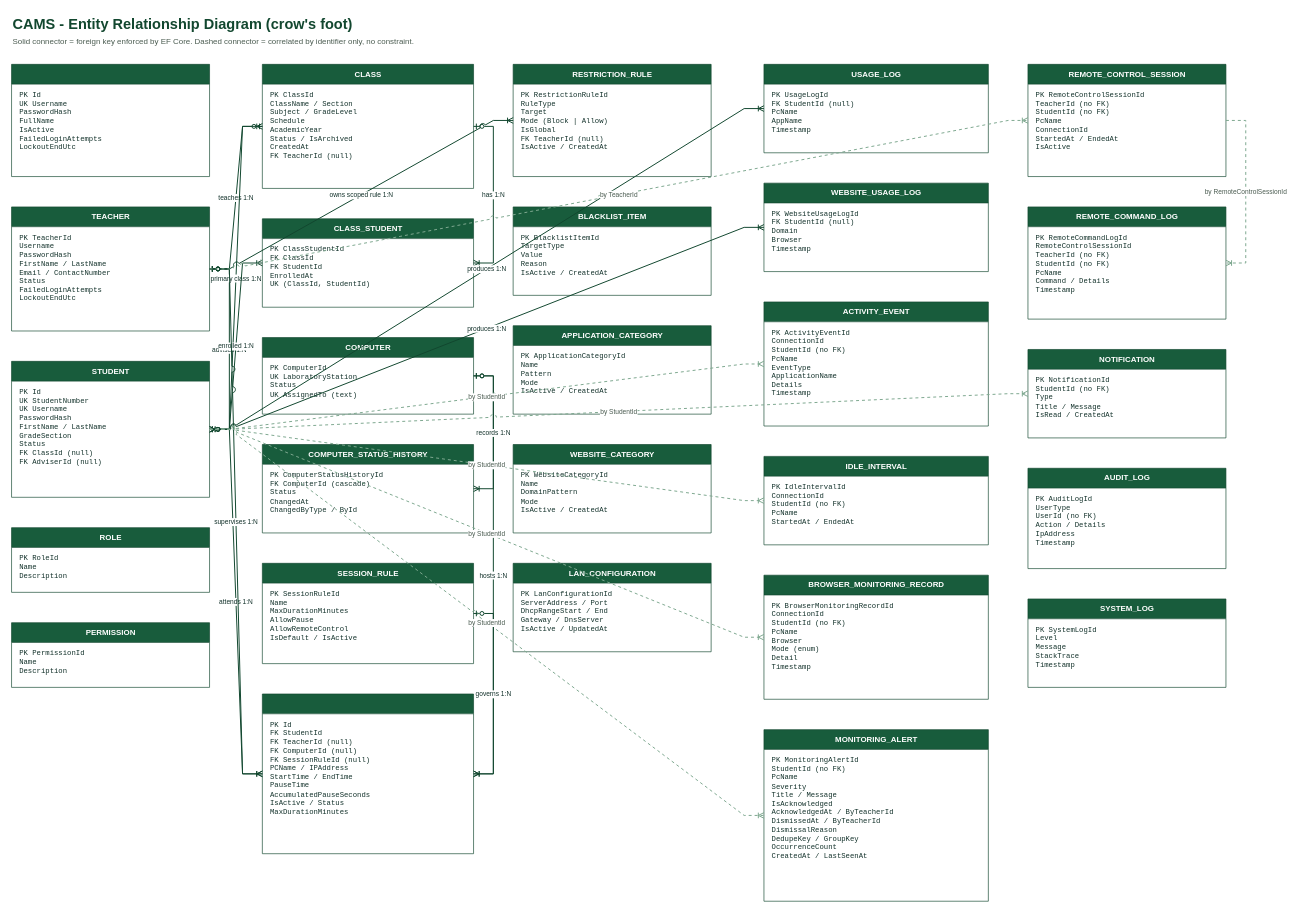
This 1298x913 diagram has some shape labels left out. The shapes that lost their labels are listed below. From the top down, each one's box as (x1, y1, x2, y2) in pixels, then its label:
(11, 64, 210, 177): ADMIN
(262, 693, 474, 854): LAB_SESSION
